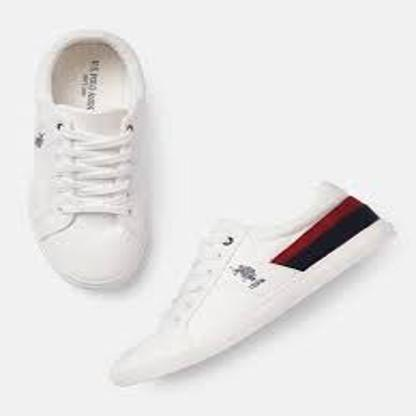not trash: (109, 176, 394, 380), (33, 32, 143, 294)
